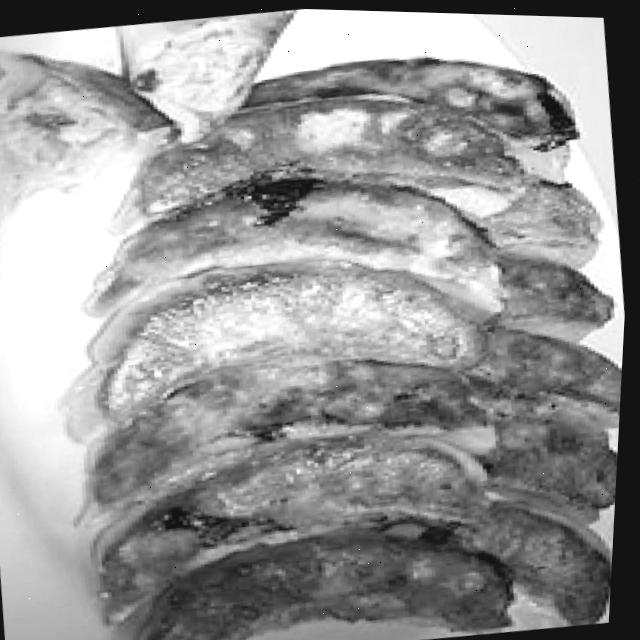带馅早点: (12, 1, 640, 640)
